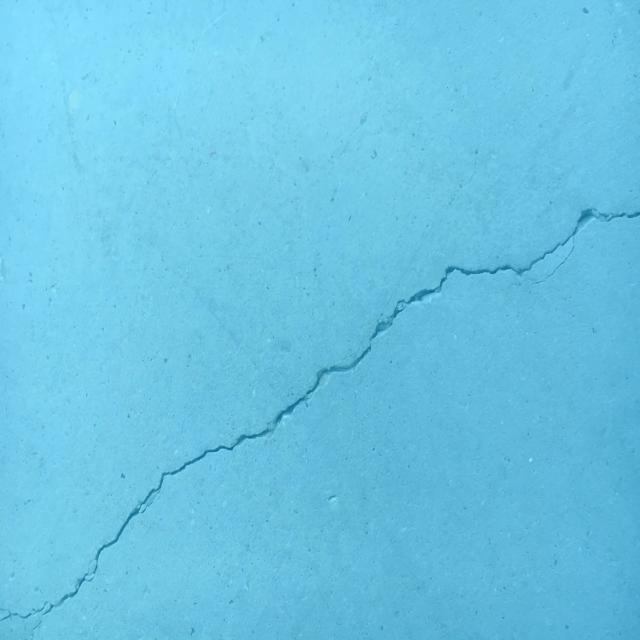crack: (0, 206, 640, 630)
